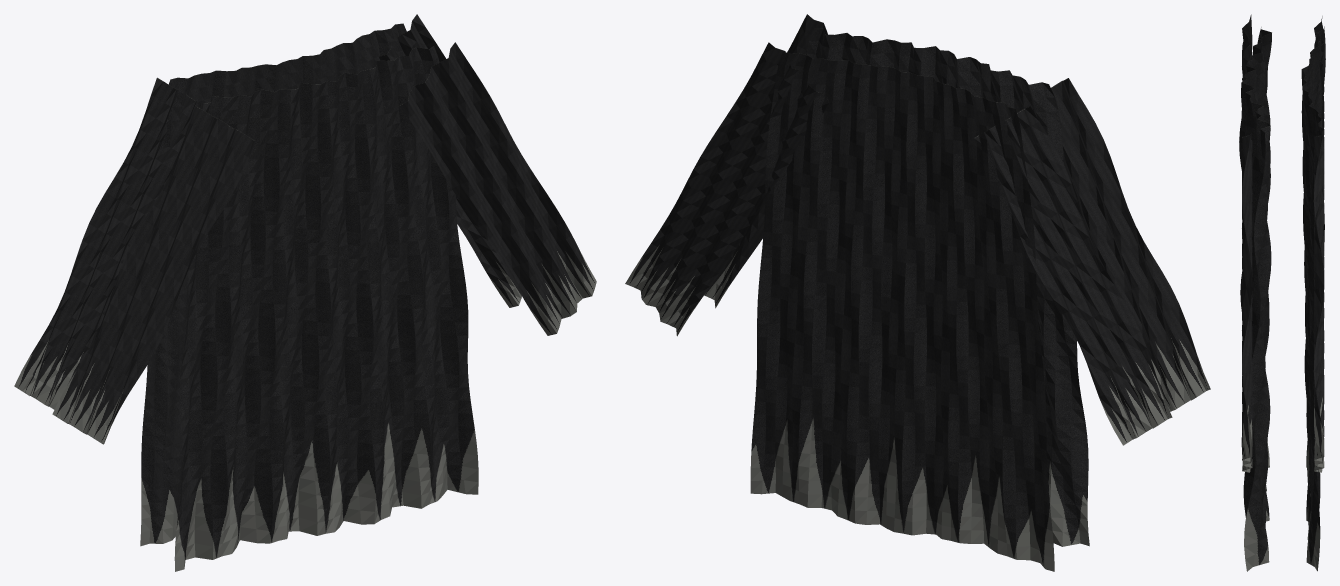
Rendered from 06-flame-hoodie.glb.
3 renders of one model, left to right at view 1: azimuth 30°, elevation 25°; view 2: azimuth 150°, elevation 25°; view 3: azimuth 270°, elevation 25°, orthographic. The views are drawn at different scales.
Parts seen in each view (by area): view 1: 06-flame-hoodie; view 2: 06-flame-hoodie; view 3: 06-flame-hoodie.
Part boxes in pixels (bbox=[...]): 06-flame-hoodie: bbox=[14, 14, 596, 571]; 06-flame-hoodie: bbox=[625, 14, 1210, 571]; 06-flame-hoodie: bbox=[1239, 14, 1325, 571].
Size of the model in its own units: 2.2 by 1.78 by 0.323.
Materials: 1 (1 with a texture image).
